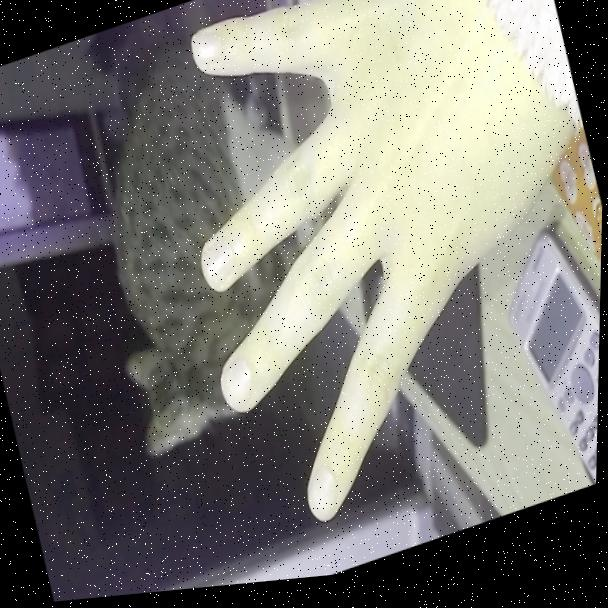four: (114, 0, 608, 572)
